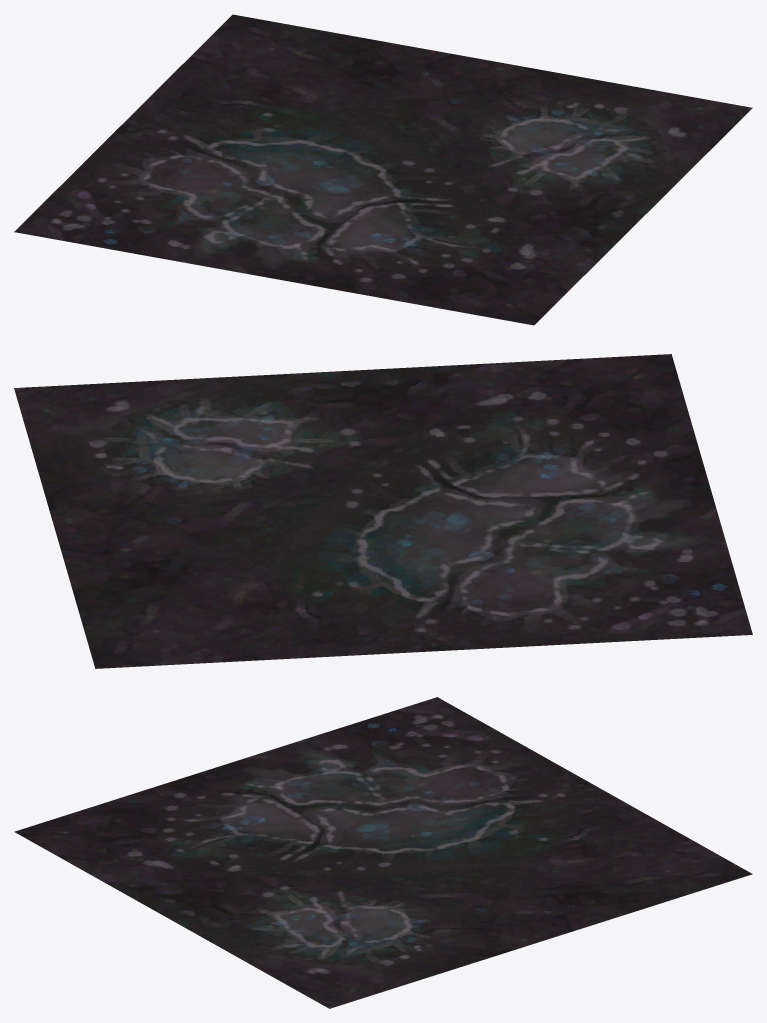
File: cave_floor_mushrooms_09.fbx
3 renders of one model, top to bottom at view 1: azimuth 30°, elevation 25°; view 2: azimuth 150°, elevation 25°; view 3: azimuth 270°, elevation 25°, orthographic. The views are drawn at different scales.
Parts seen in each view (by area): view 1: cave_tileset/Floormushrooms_02_mat; view 2: cave_tileset/Floormushrooms_02_mat; view 3: cave_tileset/Floormushrooms_02_mat.
Boxes of the visible parts, bbox=[...] form: cave_tileset/Floormushrooms_02_mat: bbox=[14, 14, 752, 325]; cave_tileset/Floormushrooms_02_mat: bbox=[14, 354, 752, 668]; cave_tileset/Floormushrooms_02_mat: bbox=[14, 697, 752, 1008].
Size of the model in its own units: 3.94 by 0 by 3.95.
